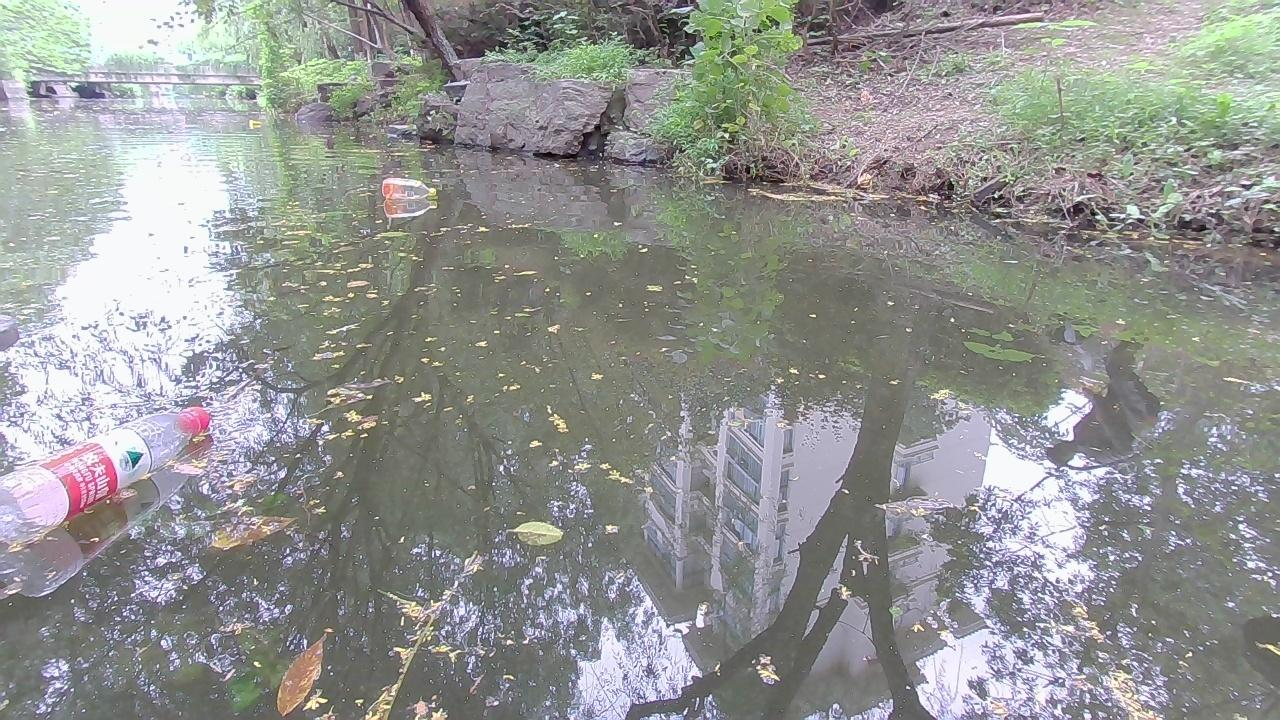bottle: (5, 398, 212, 547), (380, 172, 435, 200), (248, 119, 260, 127)
